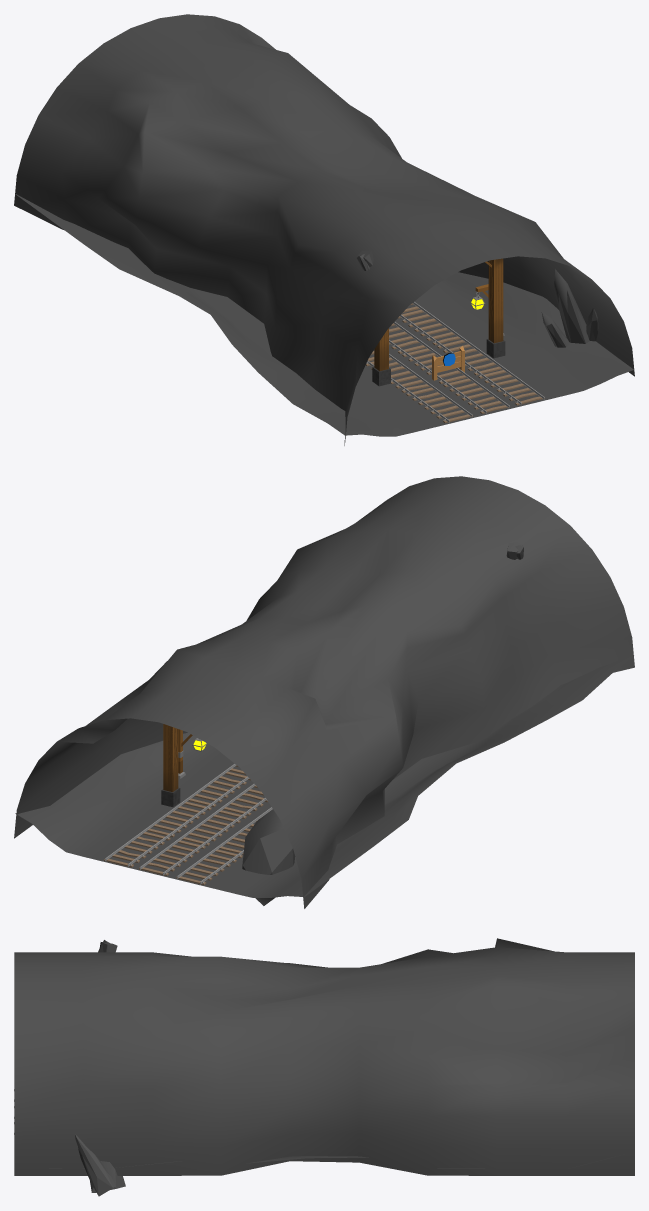
The model's file is Modulo de madeira V1.fbx.
The picture shows the model from 3 angles, top to bottom: view 1: azimuth 30°, elevation 25°; view 2: azimuth 150°, elevation 25°; view 3: azimuth 270°, elevation 25°; orthographic projection. The views are drawn at different scales.
Parts seen in each view (by area): view 1: Cube.001; view 2: Cube.001; view 3: Cube.001.
Boxes of the visible parts, box(x1,y1,x2,y2) form: Cube.001: box(14, 14, 634, 445); Cube.001: box(14, 476, 634, 908); Cube.001: box(14, 938, 634, 1196).
Bounding box in the file's own units: 2533 × 1567 × 4762.
